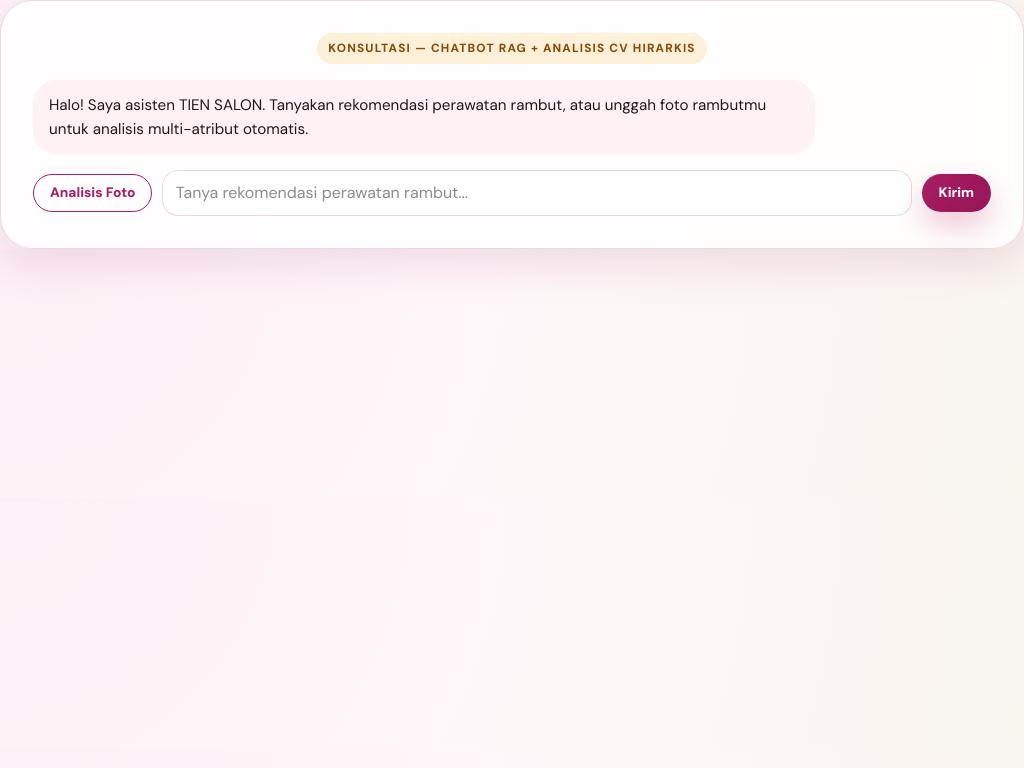
Test: ConsultChat › mempertahankan pesan kesalahan Layanan sedang sibuk.
Type "Pertanyaan gagal" into the field.
click(537, 193); type("Pertanyaan gagal")  # box [162, 170, 912, 216]
Then press Enter
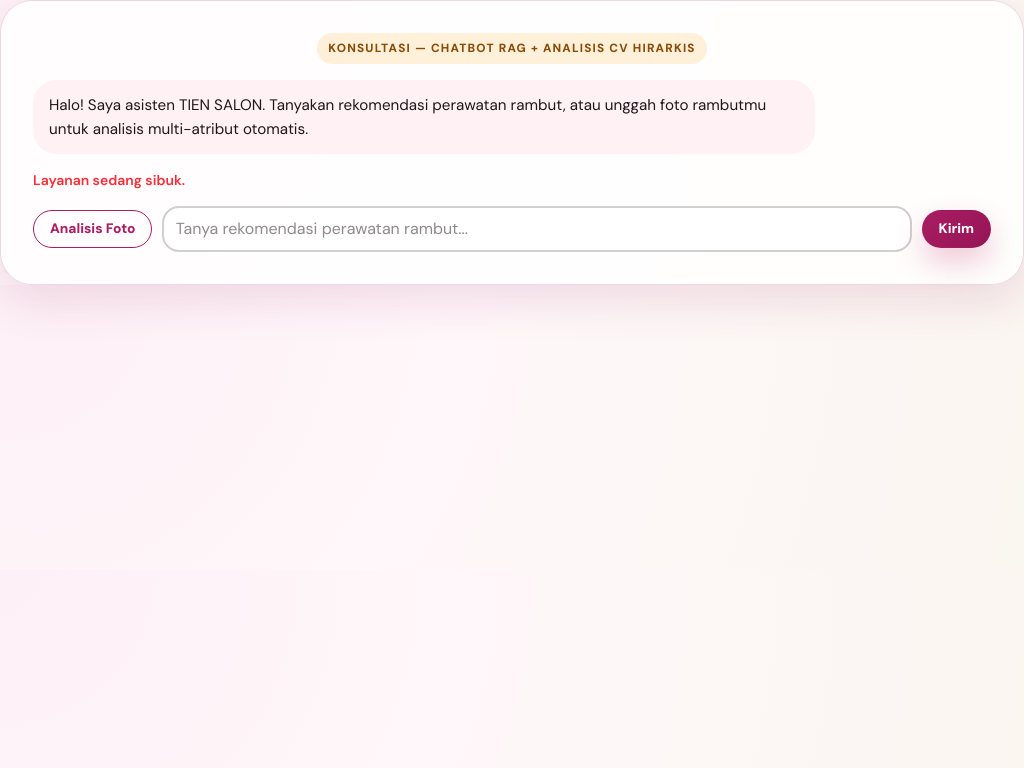
Expected: the field is enabled, [162, 206, 912, 252]
Now the text "Layanan sedang sibuk." is shown, box [33, 171, 185, 189]
